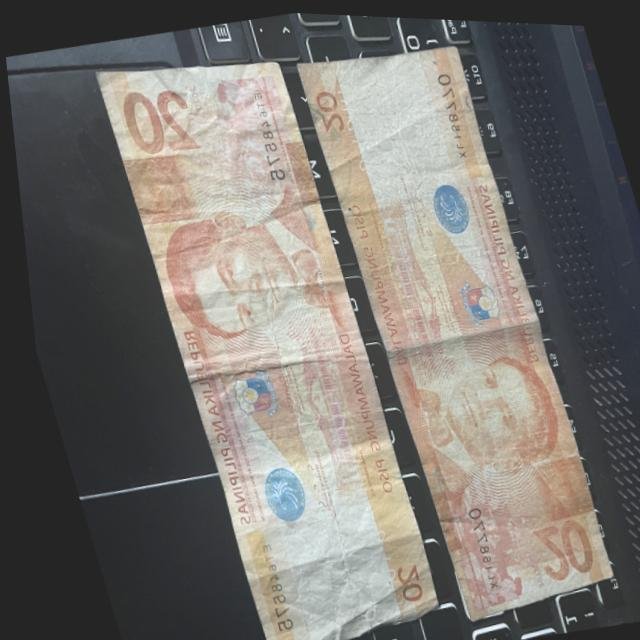concealed_value: (120, 144, 193, 228), (517, 436, 589, 516)
serial_number: (232, 524, 290, 640), (239, 80, 291, 178), (450, 491, 498, 597), (428, 63, 477, 156)
value: (106, 71, 205, 169), (510, 497, 595, 588)
